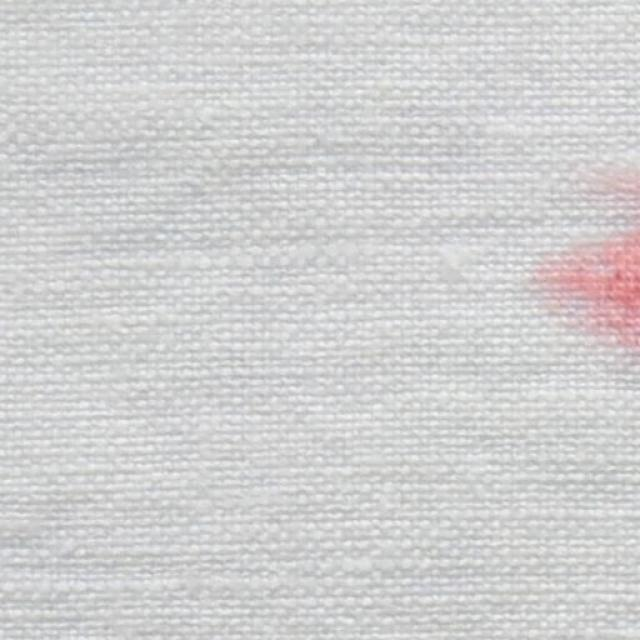Stain: (538, 230, 640, 351)
